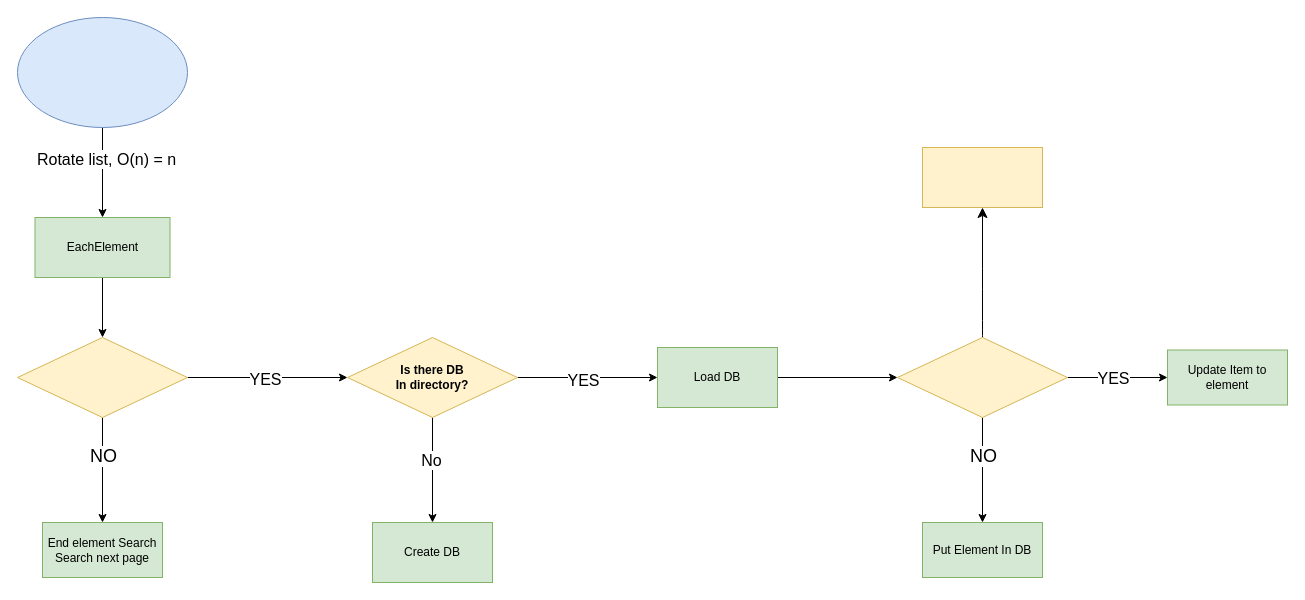
Some shapes in this 1305 by 600 pixel diagram are drawn without their labels. The box of each missing label's shape, as (x1, y1, x2, y2) in pixels:
Element In DB?: (896, 336, 1068, 418)
Get Study list From target site page = 1: (16, 16, 188, 128)
In Reference date?: (16, 336, 188, 418)
